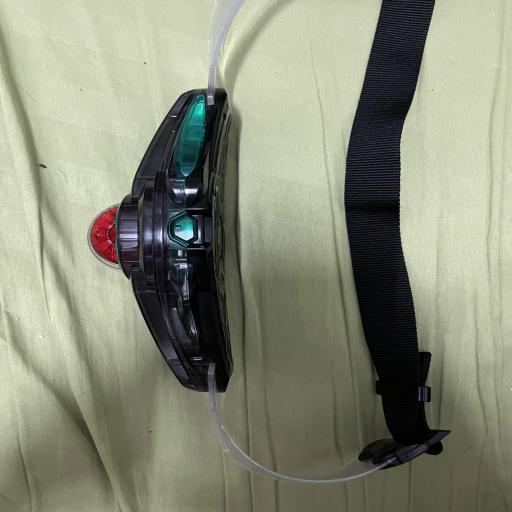zeztzdriver: (344, 0, 450, 466), (89, 68, 233, 392), (208, 363, 401, 483), (207, 0, 245, 105)
